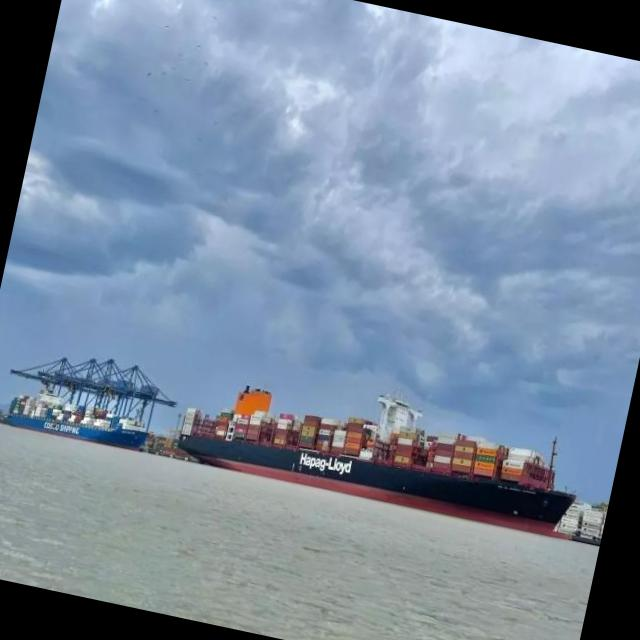Cargo: (179, 386, 574, 530), (5, 390, 144, 448)
